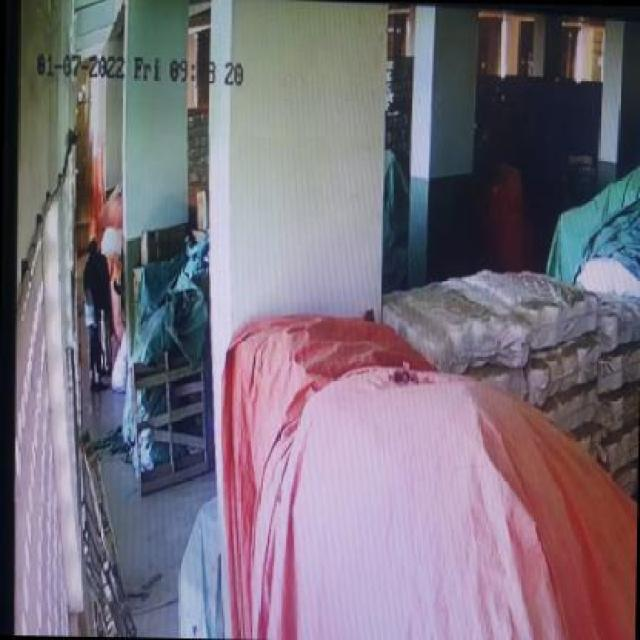fire: (98, 224, 125, 262)
